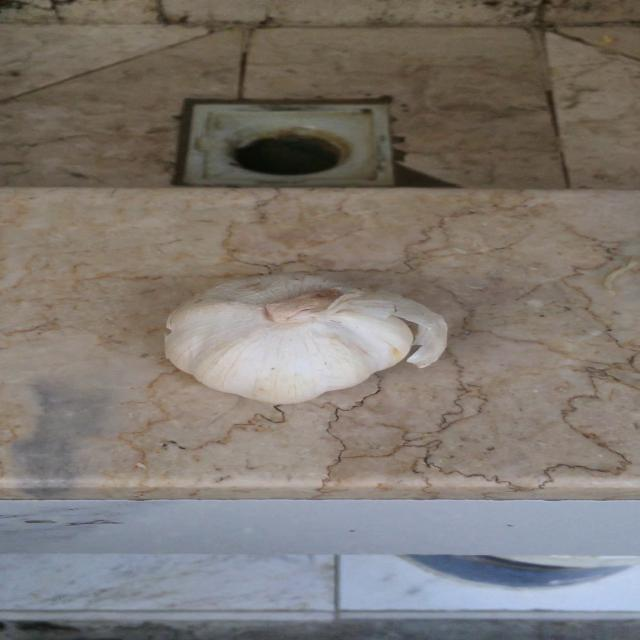garlic: (162, 271, 452, 406)
